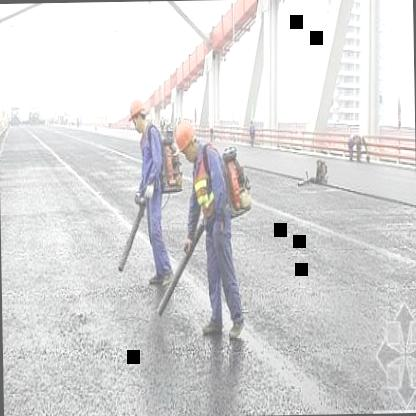helmet: (173, 116, 198, 158), (127, 94, 148, 131)
